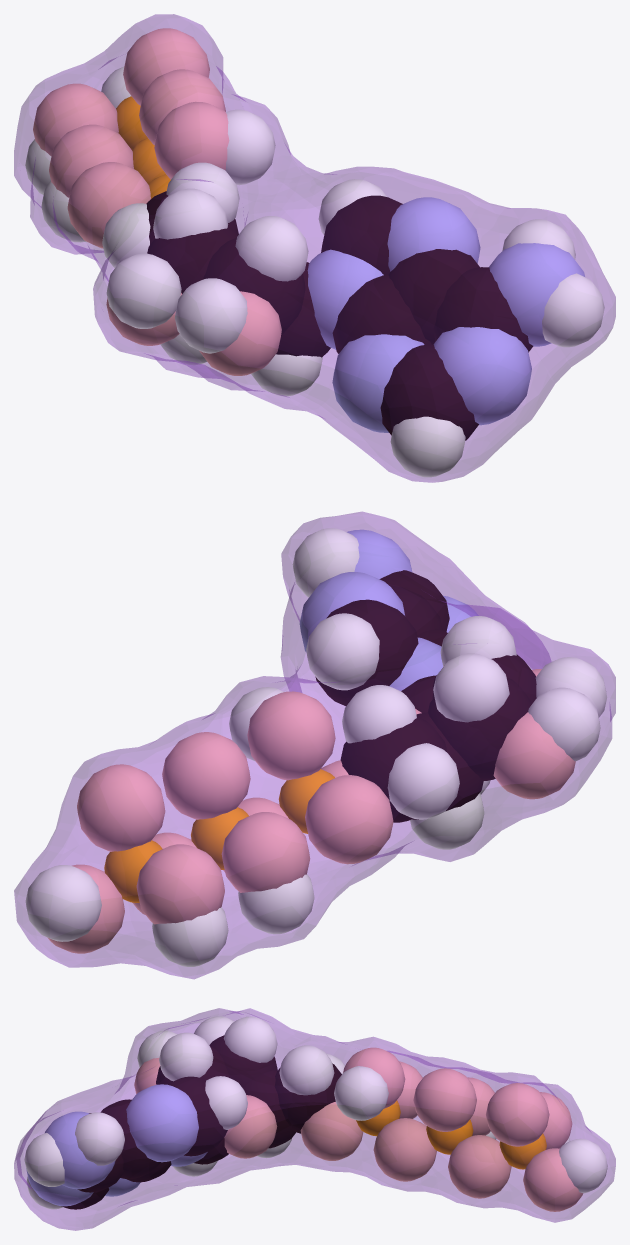
File: atpballs.fbx
3 renders of one model, top to bottom at view 1: azimuth 30°, elevation 25°; view 2: azimuth 150°, elevation 25°; view 3: azimuth 270°, elevation 25°, orthographic. The views are drawn at different scales.
Parts seen in each view (by area): view 1: hi, ATP_ideal_b_cpkbasesphere_20, ATP_ideal_b_cpkbasesphere_19, ATP_ideal_b_cpkbasesphere_21, ATP_ideal_b_cpkbasesphere_18, ATP_ideal_b_cpkbasesphere_24, ATP_ideal_b_cpkbasesphere_8, ATP_ideal_b_cpkbasesphere_37, ATP_ideal_b_cpkbasesphere_38, ATP_ideal_b_cpkbasesphere_6, ATP_ideal_b_cpkbasesphere_23, ATP_ideal_b_cpkbasesphere_22 (+28 smaller); view 2: hi, ATP_ideal_b_cpkbasesphere_38, ATP_ideal_b_cpkbasesphere_37, ATP_ideal_b_cpkbasesphere_42, ATP_ideal_b_cpkbasesphere_46, ATP_ideal_b_cpkbasesphere_41, ATP_ideal_b_cpkbasesphere_44, ATP_ideal_b_cpkbasesphere_16, ATP_ideal_b_cpkbasesphere_30, ATP_ideal_b_cpkbasesphere_4, ATP_ideal_b_cpkbasesphere_12, ATP_ideal_b_cpkbasesphere_9 (+24 smaller); view 3: hi, ATP_ideal_b_cpkbasesphere_24, ATP_ideal_b_cpkbasesphere_46, ATP_ideal_b_cpkbasesphere_42, ATP_ideal_b_cpkbasesphere_40, ATP_ideal_b_cpkbasesphere_36, ATP_ideal_b_cpkbasesphere_45, ATP_ideal_b_cpkbasesphere_35, ATP_ideal_b_cpkbasesphere_21, ATP_ideal_b_cpkbasesphere_13, ATP_ideal_b_cpkbasesphere_11, ATP_ideal_b_cpkbasesphere_32 (+29 smaller).
Boxes of the visible parts, <box> form: hi: <box>14,14,615,482</box>; ATP_ideal_b_cpkbasesphere_20: <box>433,327,531,425</box>; ATP_ideal_b_cpkbasesphere_19: <box>380,344,478,440</box>; ATP_ideal_b_cpkbasesphere_21: <box>489,243,584,346</box>; ATP_ideal_b_cpkbasesphere_18: <box>332,334,424,432</box>; ATP_ideal_b_cpkbasesphere_24: <box>387,197,480,271</box>; ATP_ideal_b_cpkbasesphere_8: <box>106,253,181,328</box>; ATP_ideal_b_cpkbasesphere_37: <box>154,101,229,179</box>; ATP_ideal_b_cpkbasesphere_38: <box>67,162,150,248</box>; ATP_ideal_b_cpkbasesphere_6: <box>175,278,247,353</box>; ATP_ideal_b_cpkbasesphere_23: <box>388,249,479,344</box>; ATP_ideal_b_cpkbasesphere_22: <box>433,267,533,352</box>; hi: <box>14,511,615,979</box>; ATP_ideal_b_cpkbasesphere_38: <box>305,775,393,864</box>; ATP_ideal_b_cpkbasesphere_37: <box>247,691,335,780</box>; ATP_ideal_b_cpkbasesphere_42: <box>162,732,250,819</box>; ATP_ideal_b_cpkbasesphere_46: <box>77,764,165,851</box>; ATP_ideal_b_cpkbasesphere_41: <box>221,812,310,892</box>; ATP_ideal_b_cpkbasesphere_44: <box>136,844,224,924</box>; ATP_ideal_b_cpkbasesphere_16: <box>25,865,101,941</box>; ATP_ideal_b_cpkbasesphere_30: <box>493,712,575,799</box>; ATP_ideal_b_cpkbasesphere_4: <box>306,613,379,690</box>; ATP_ideal_b_cpkbasesphere_12: <box>387,743,459,819</box>; ATP_ideal_b_cpkbasesphere_9: <box>433,653,509,722</box>; hi: <box>14,1008,615,1230</box>; ATP_ideal_b_cpkbasesphere_24: <box>126,1084,198,1162</box>; ATP_ideal_b_cpkbasesphere_46: <box>486,1083,549,1146</box>; ATP_ideal_b_cpkbasesphere_42: <box>413,1068,476,1131</box>; ATP_ideal_b_cpkbasesphere_40: <box>448,1135,511,1198</box>; ATP_ideal_b_cpkbasesphere_36: <box>373,1118,436,1181</box>; ATP_ideal_b_cpkbasesphere_45: <box>523,1148,583,1211</box>; ATP_ideal_b_cpkbasesphere_35: <box>300,1102,363,1160</box>; ATP_ideal_b_cpkbasesphere_21: <box>45,1111,115,1189</box>; ATP_ideal_b_cpkbasesphere_13: <box>334,1066,388,1120</box>; ATP_ideal_b_cpkbasesphere_11: <box>279,1045,334,1095</box>; ATP_ideal_b_cpkbasesphere_32: <box>224,1095,277,1158</box>.
Size of the model in its own units: 10.96 by 6.28 by 19.69.
